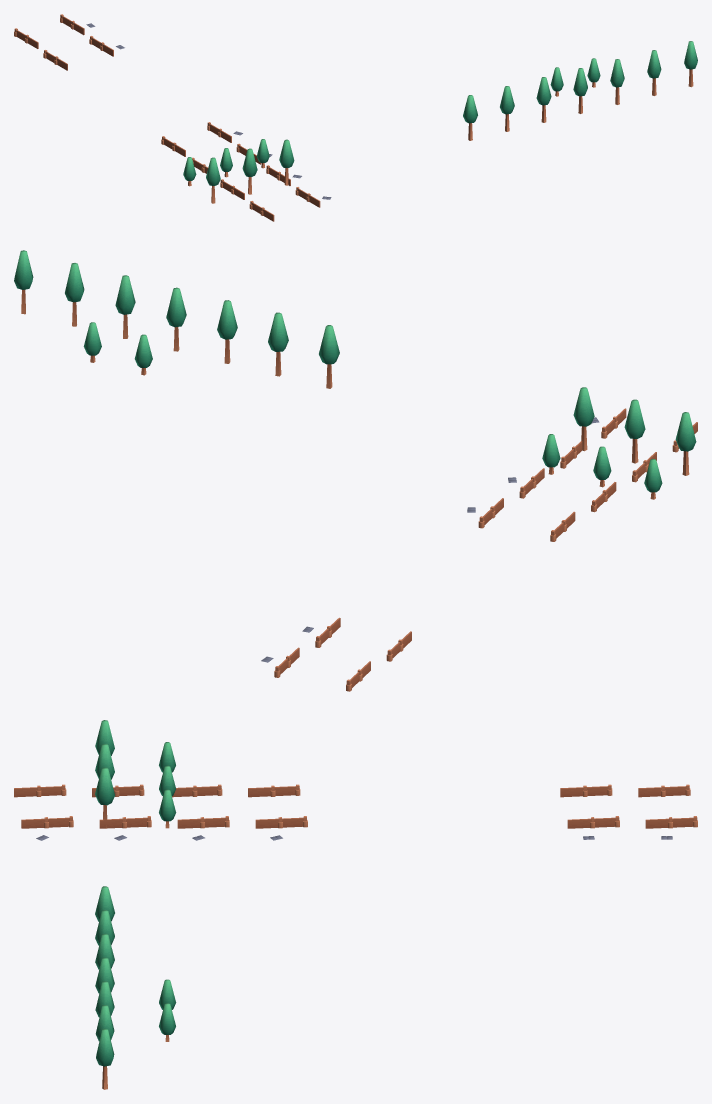
Rendered from wf02-hero-replacement-east.glb.
3 views of the same model, one above another, from view 1: azimuth 30°, elevation 25°; view 2: azimuth 150°, elevation 25°; view 3: azimuth 270°, elevation 25° (orthographic). The views are drawn at different scales.
Visible parts, largest first — view 1: tree-large; view 2: tree-large; view 3: tree-large.
Boxes of the visible parts, x1,y1,x2,y2 form: tree-large: [14, 14, 697, 221]; tree-large: [14, 250, 697, 691]; tree-large: [14, 720, 697, 1089].
Bounding box in the file's own units: 24.04 × 2.07 × 21.91.
1 material, 1 textured.
